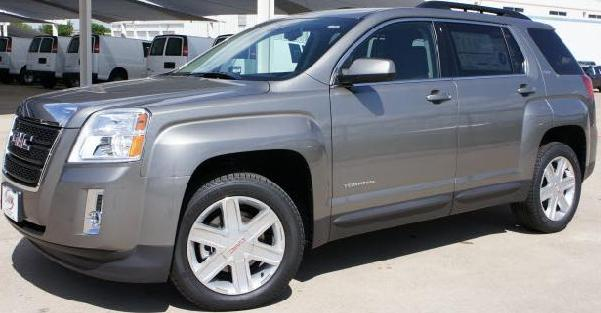front_view: (6, 106, 150, 287)
headlight: (85, 106, 155, 181)
side_glass: (333, 6, 539, 83)
